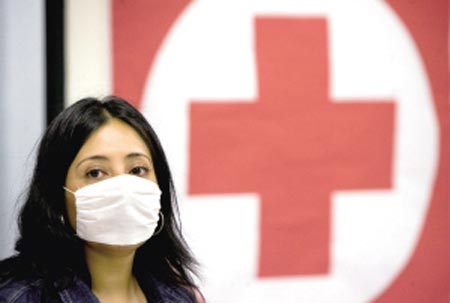face_mask: (66, 127, 162, 249)
